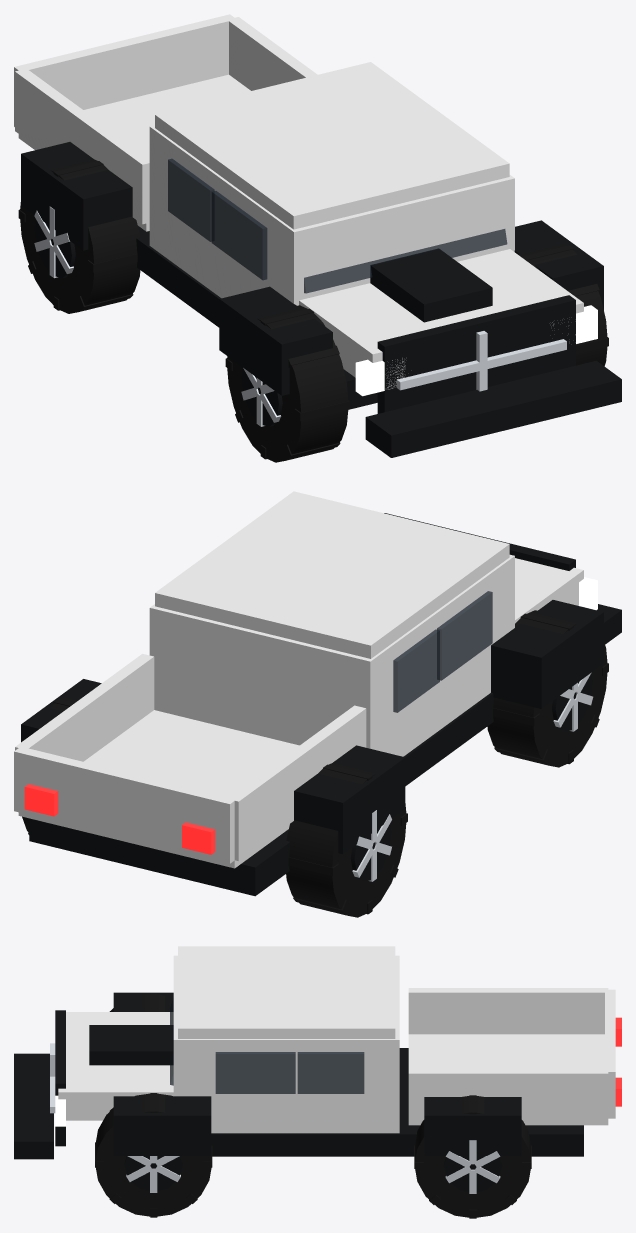
File: headbutt-tyrannosaur.glb
3 renders of one model, top to bottom at view 1: azimuth 30°, elevation 25°; view 2: azimuth 150°, elevation 25°; view 3: azimuth 270°, elevation 25°, orthographic. The views are drawn at different scales.
Visible parts, largest first — view 1: chassis, wheel-front-left, wheel-back-left, glass, wheel-front-right; view 2: chassis, wheel-back-left, wheel-front-left; view 3: chassis, wheel-back-right, wheel-front-right, wheel-front-left.
Boxes of the visible parts, box(x1,y1,x2,y2) form: chassis: box(14, 14, 621, 457); wheel-front-left: box(225, 305, 349, 462); wheel-back-left: box(18, 159, 140, 313); glass: box(304, 229, 507, 293); wheel-front-right: box(515, 244, 608, 366); chassis: box(14, 491, 621, 896); wheel-back-left: box(286, 763, 407, 917); wheel-front-left: box(487, 610, 608, 767); chassis: box(14, 946, 621, 1159); wheel-back-right: box(414, 1095, 531, 1218); wheel-front-right: box(95, 1093, 212, 1217); wheel-front-left: box(109, 993, 164, 1011).
Size of the model in its own units: 3.29 by 2.13 by 6.85.
